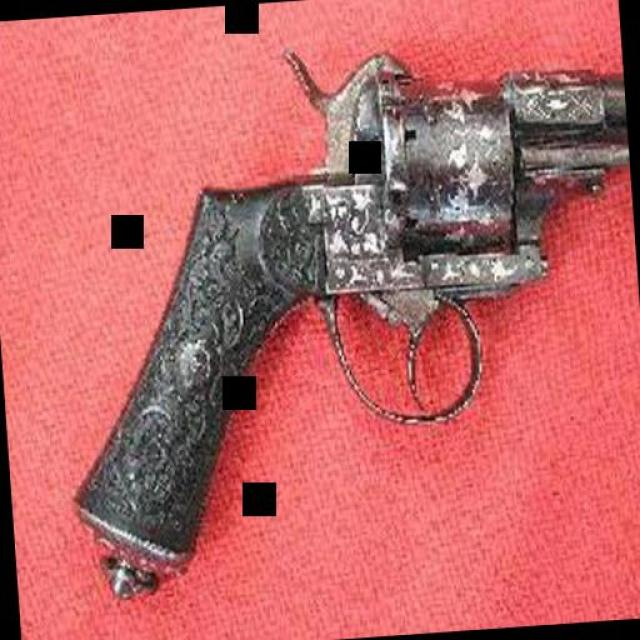gun: (44, 20, 640, 604)
